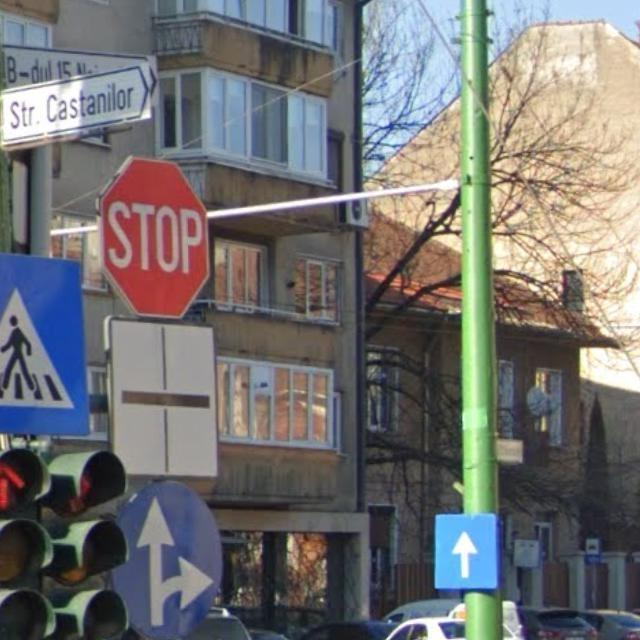info_crosswalk: (0, 262, 89, 436)
prio_stop: (102, 157, 208, 320)
